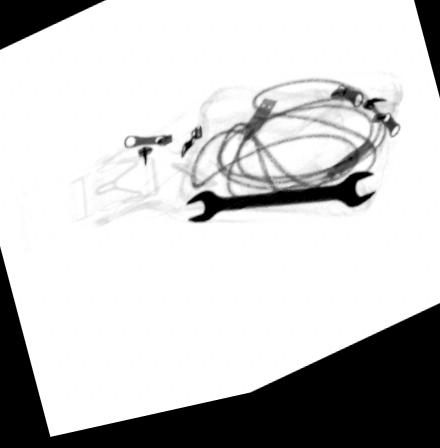Wrench: (182, 186, 377, 232)
